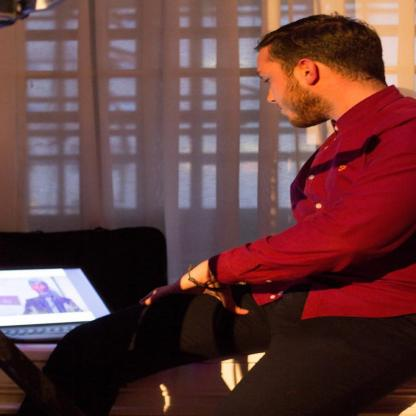board: (3, 264, 107, 351)
